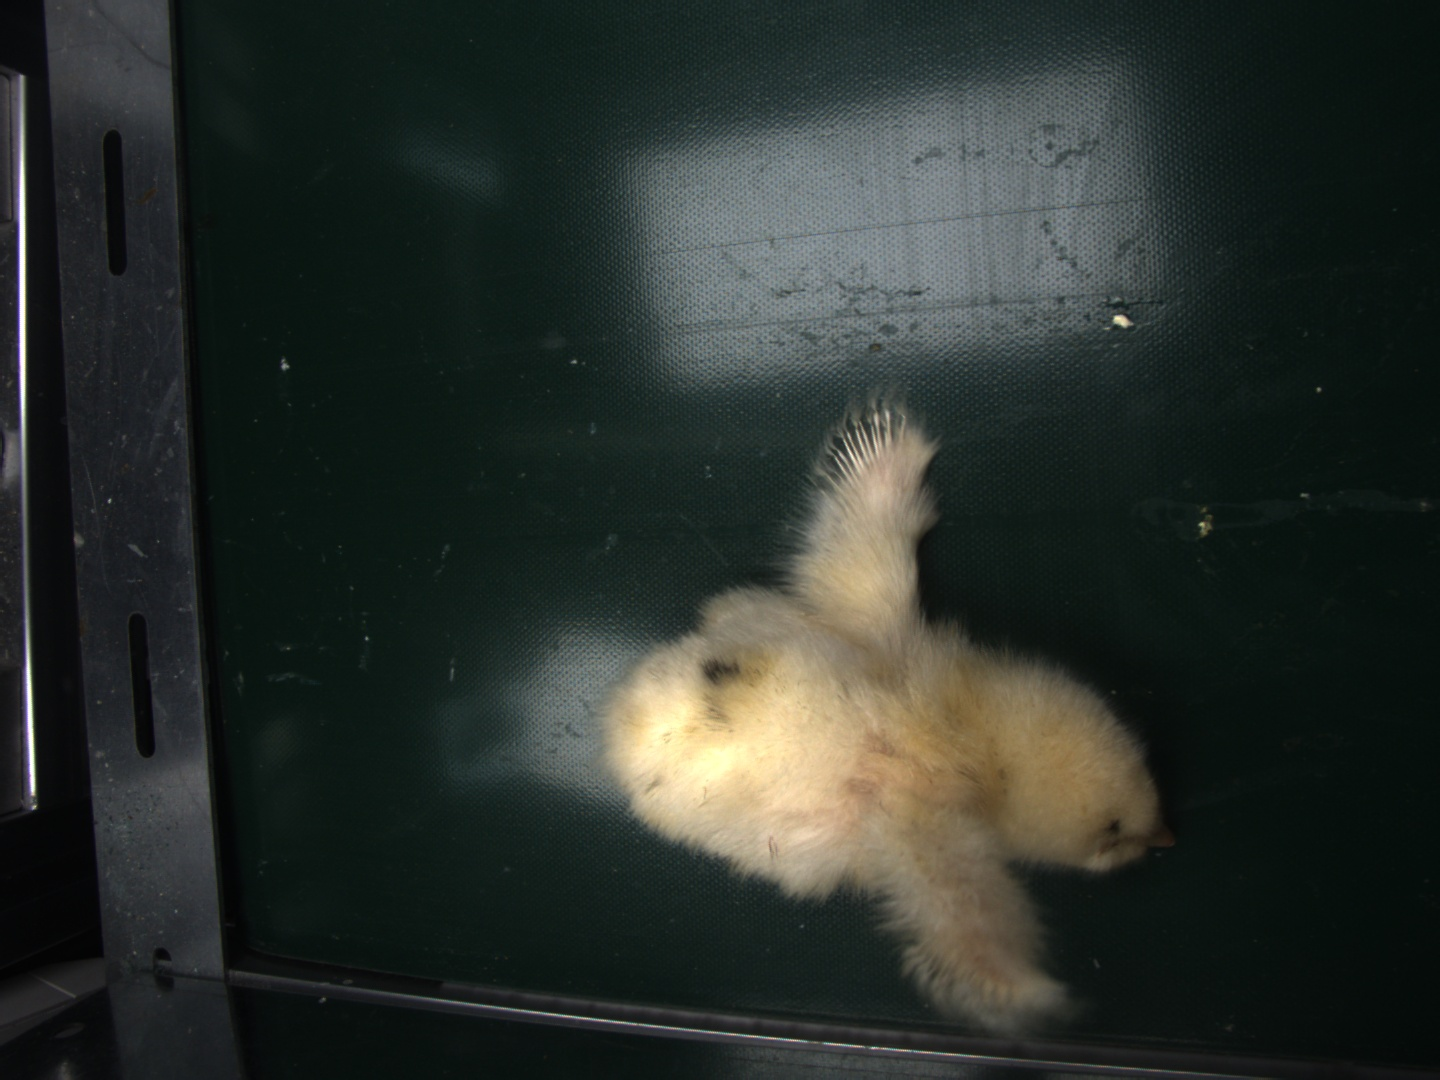male: (821, 400, 903, 493)
